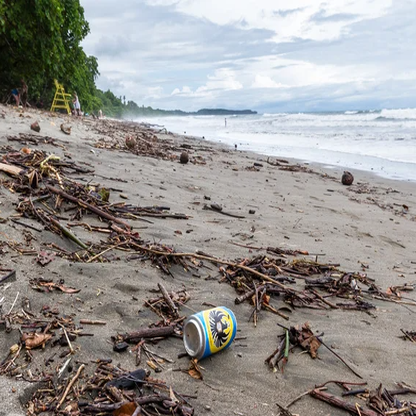can: (182, 303, 238, 357)
